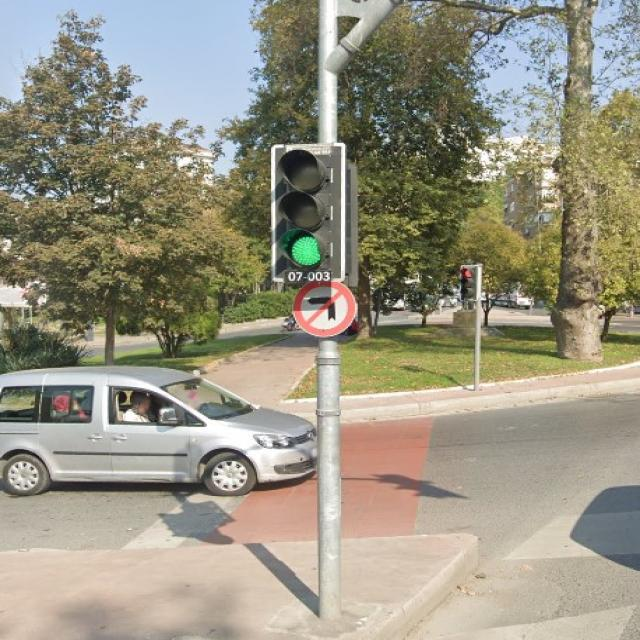kirmizi: (460, 265, 479, 302)
soladonulmez: (292, 281, 358, 336)
yesil: (271, 144, 344, 281)
